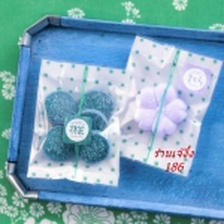snack: (99, 30, 224, 181), (21, 52, 134, 191)
